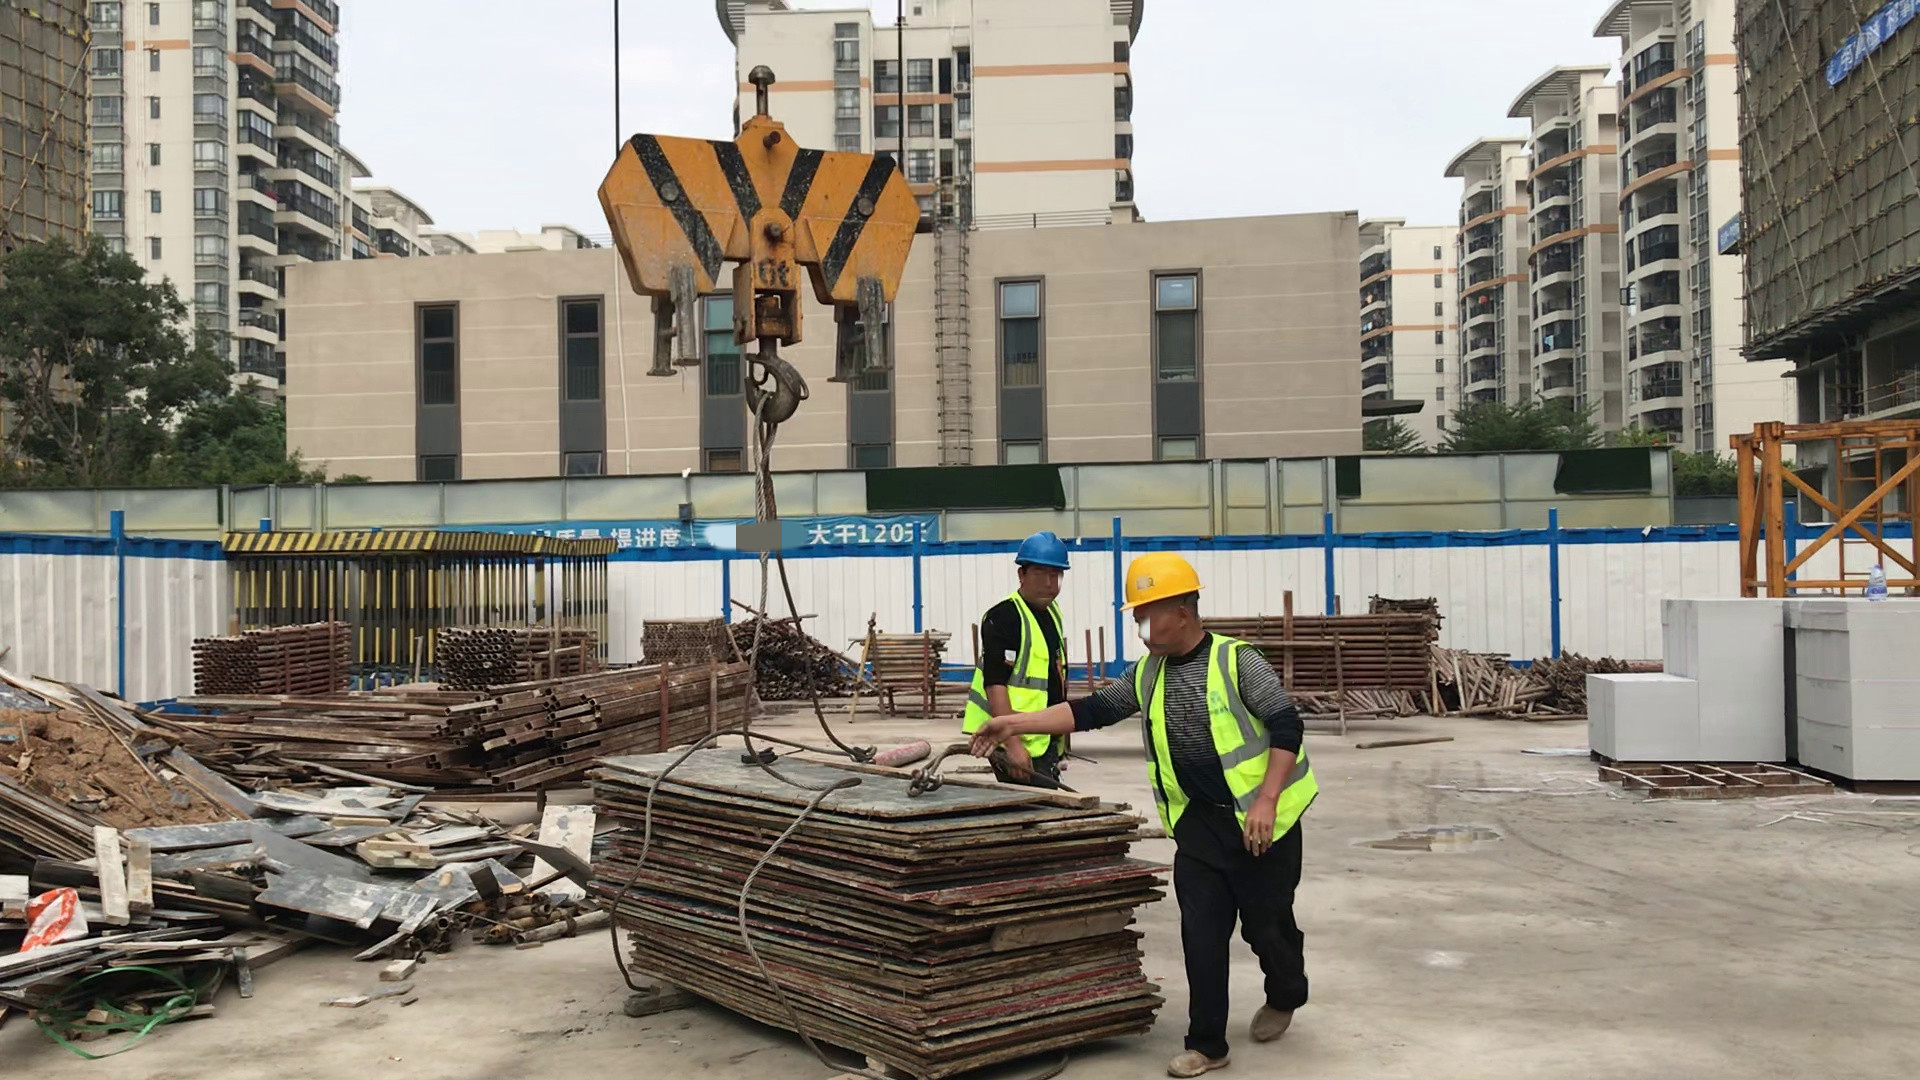board: (584, 743, 1170, 1068)
brick: (1589, 593, 1920, 786)
helmet: (1118, 549, 1202, 612), (1014, 531, 1069, 573)
hook: (580, 113, 925, 427)
person: (1077, 545, 1314, 1078), (981, 530, 1069, 783)
scaffold: (199, 627, 351, 705), (1244, 619, 1425, 682), (441, 626, 591, 681), (863, 637, 941, 686), (641, 622, 720, 665)
slogan: (531, 512, 939, 546), (1825, 1, 1919, 87)
vest: (1124, 636, 1315, 853), (969, 591, 1073, 760)
